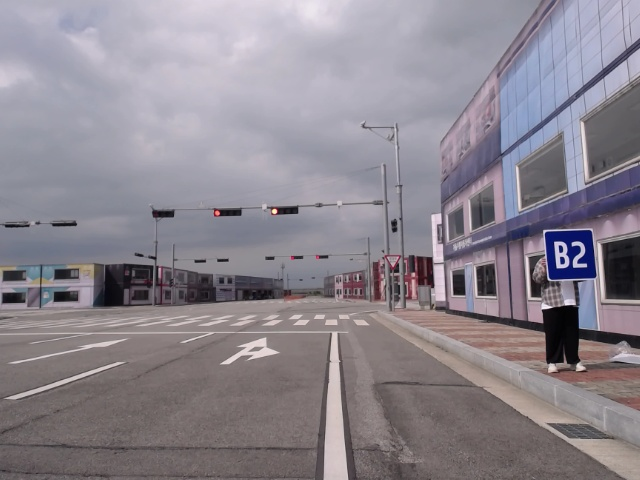delivery_b2: (542, 226, 600, 283)
red_4: (213, 208, 244, 218), (269, 205, 300, 215), (314, 254, 330, 260), (291, 255, 306, 261)
